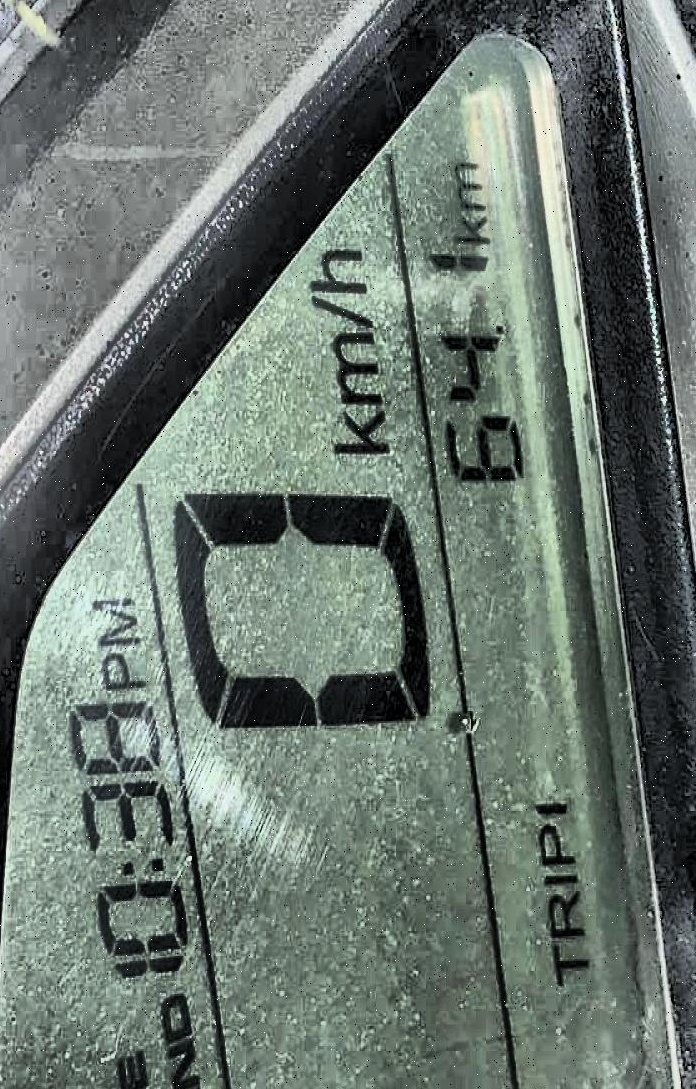-: (486, 315, 513, 334)
0: (173, 476, 432, 732), (95, 879, 186, 952)
1: (105, 951, 188, 982), (422, 249, 494, 277), (527, 794, 578, 814)
3: (72, 774, 177, 850)
4: (437, 331, 499, 401)
6: (440, 412, 526, 482)
8: (64, 696, 168, 772)
X: (335, 330, 381, 404), (306, 246, 365, 291), (331, 407, 390, 452), (90, 594, 140, 645), (307, 292, 372, 326), (533, 821, 579, 866), (98, 652, 148, 692), (546, 889, 585, 939), (159, 985, 192, 1044), (550, 942, 591, 987), (167, 1034, 199, 1087), (452, 157, 484, 209), (112, 1047, 149, 1089), (450, 214, 490, 244), (118, 852, 164, 876), (537, 871, 581, 887)
